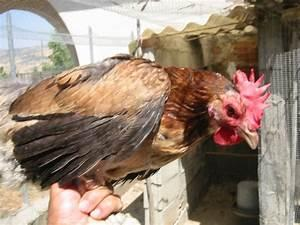hen: (2, 52, 271, 219)
